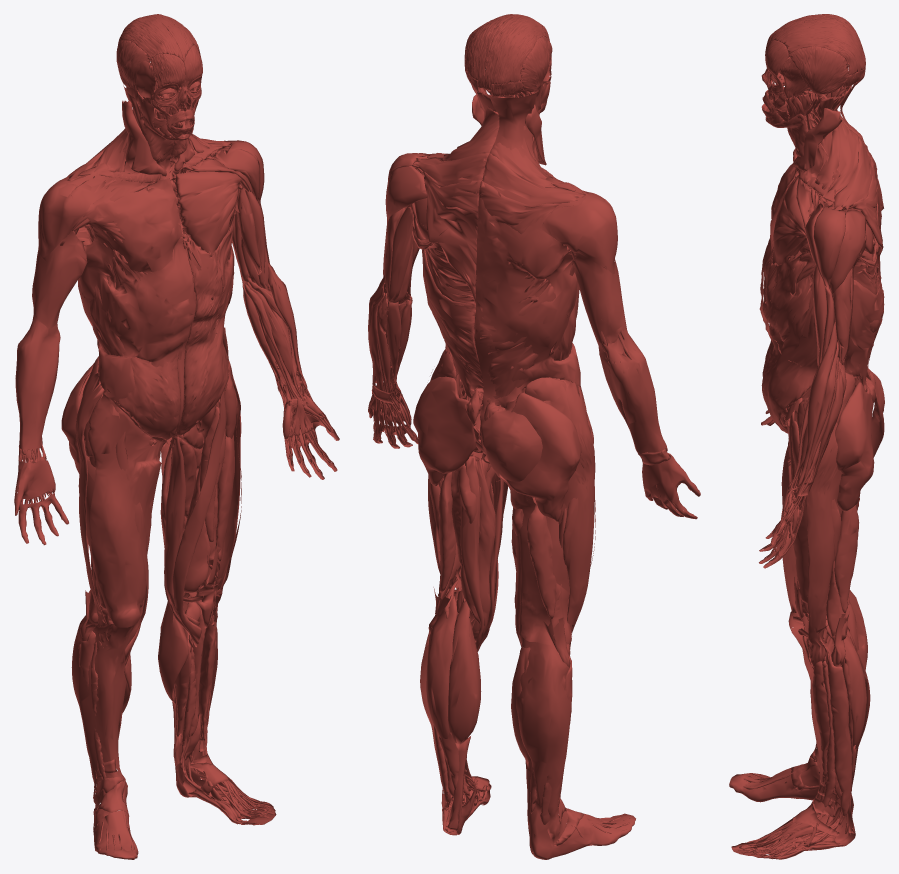
Rendered from muscular.glb.
3 views of the same model, side by side, from view 1: azimuth 30°, elevation 25°; view 2: azimuth 150°, elevation 25°; view 3: azimuth 270°, elevation 25° (orthographic). The views are drawn at different scales.
Visible parts, largest first — view 1: W_ZA38D8A0B1, W_ZAAFB06D34, W_ZAFB27CA9E, W_FJ1452M, W_ZA85EB9FD9, W_FJ1452, W_ZAD8C91764, W_FJ1464M, W_ZA3D8B697B, W_FJ1434M, W_ZA653B2173, W_FJ1421M (+35 smaller); view 2: W_ZAAFB06D34, W_ZAFB27CA9E, W_ZA38D8A0B1, W_R3_FMA13359, VD_gluteus_maximus_right, W_FJ1423, VD_gluteus_maximus_left, W_FJ1520M, W_ZAD8C91764, W_R3_FMA46768, W_ZA653B2173, W_FJ1397M (+27 smaller); view 3: W_FJ1452M, W_FJ1423M, VD_gluteus_maximus_left, W_R3_FMA13359, W_R3_FMA46768, W_ZAFB27CA9E, VD_peroneus_longus_left, VD_biceps_femoris_long_left, W_FJ1521M, W_R3_FMA46764, W_ZAE982E04F, W_FJ1467M (+41 smaller).
Boxes of the visible parts, <box> form: W_ZA38D8A0B1: <box>79,368,166,627</box>; W_ZAAFB06D34: <box>78,231,195,440</box>; W_ZAFB27CA9E: <box>71,615,141,859</box>; W_FJ1452M: <box>174,221,233,436</box>; W_ZA85EB9FD9: <box>83,178,182,273</box>; W_FJ1452: <box>88,249,180,440</box>; W_ZAD8C91764: <box>15,314,60,449</box>; W_FJ1464M: <box>175,171,248,256</box>; W_ZA3D8B697B: <box>32,228,87,328</box>; W_FJ1434M: <box>172,389,226,647</box>; W_ZA653B2173: <box>38,173,121,257</box>; W_FJ1421M: <box>164,436,199,626</box>; W_ZAAFB06D34: <box>474,208,580,408</box>; W_ZAFB27CA9E: <box>516,634,635,859</box>; W_ZA38D8A0B1: <box>480,378,595,645</box>; W_R3_FMA13359: <box>412,212,483,404</box>; VD_gluteus_maximus_right: <box>506,392,581,521</box>; W_FJ1423: <box>558,379,595,655</box>; VD_gluteus_maximus_left: <box>413,376,476,486</box>; W_FJ1520M: <box>422,172,481,303</box>; W_ZAD8C91764: <box>597,328,666,454</box>; W_R3_FMA46768: <box>465,14,546,90</box>; W_ZA653B2173: <box>540,184,617,273</box>; W_FJ1397M: <box>447,600,481,744</box>; W_FJ1452M: <box>761,250,846,433</box>; W_FJ1423M: <box>802,397,841,670</box>; VD_gluteus_maximus_left: <box>835,382,874,511</box>; W_R3_FMA13359: <box>844,238,884,385</box>; W_R3_FMA46768: <box>769,14,865,75</box>; W_ZAFB27CA9E: <box>729,590,867,802</box>; VD_peroneus_longus_left: <box>798,656,852,843</box>; VD_biceps_femoris_long_left: <box>834,505,859,666</box>; W_FJ1521M: <box>815,85,859,196</box>; W_R3_FMA46764: <box>788,46,849,94</box>; W_ZAE982E04F: <box>731,625,870,859</box>; W_FJ1467M: <box>813,207,845,287</box>.
Bounding box in the file's own units: 0.6783 × 1.6 × 0.2791.
